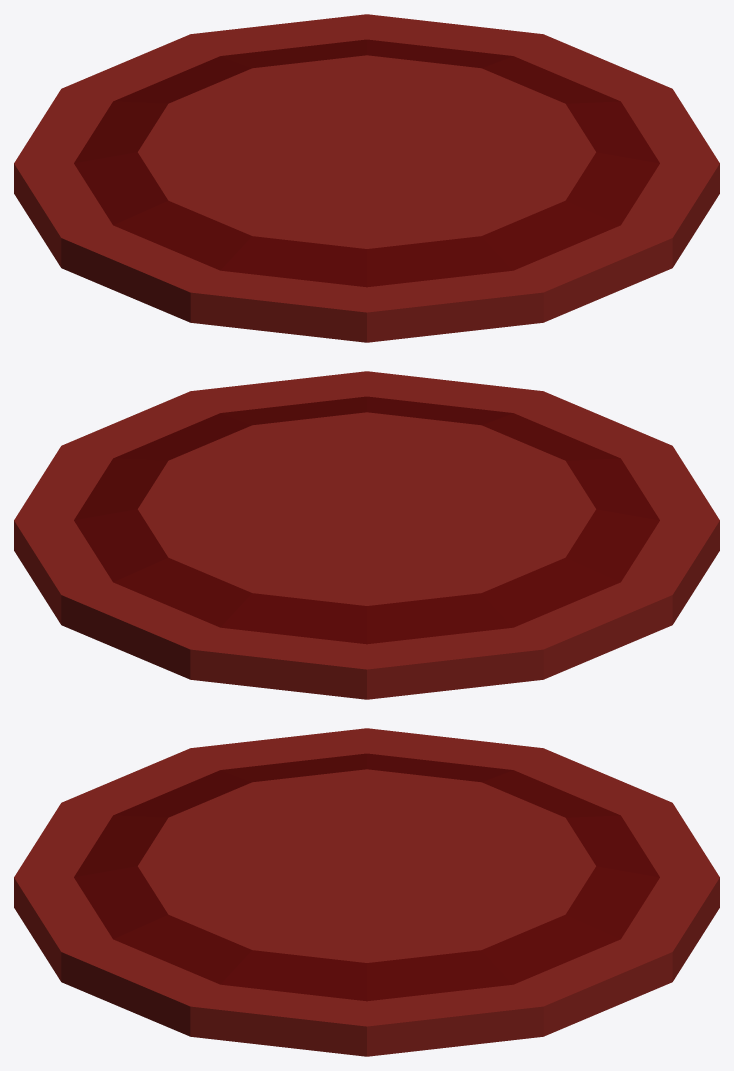
The model's file is dywan.fbx.
3 renders of one model, top to bottom at view 1: azimuth 30°, elevation 25°; view 2: azimuth 150°, elevation 25°; view 3: azimuth 270°, elevation 25°, orthographic.
Parts seen in each view (by area): view 1: Circle; view 2: Circle; view 3: Circle.
Boxes of the visible parts, x1,y1,x2,y2 form: Circle: [14, 14, 719, 342]; Circle: [14, 371, 719, 699]; Circle: [14, 728, 719, 1056].
Bounding box in the file's own units: 1824 × 118 × 1824.
